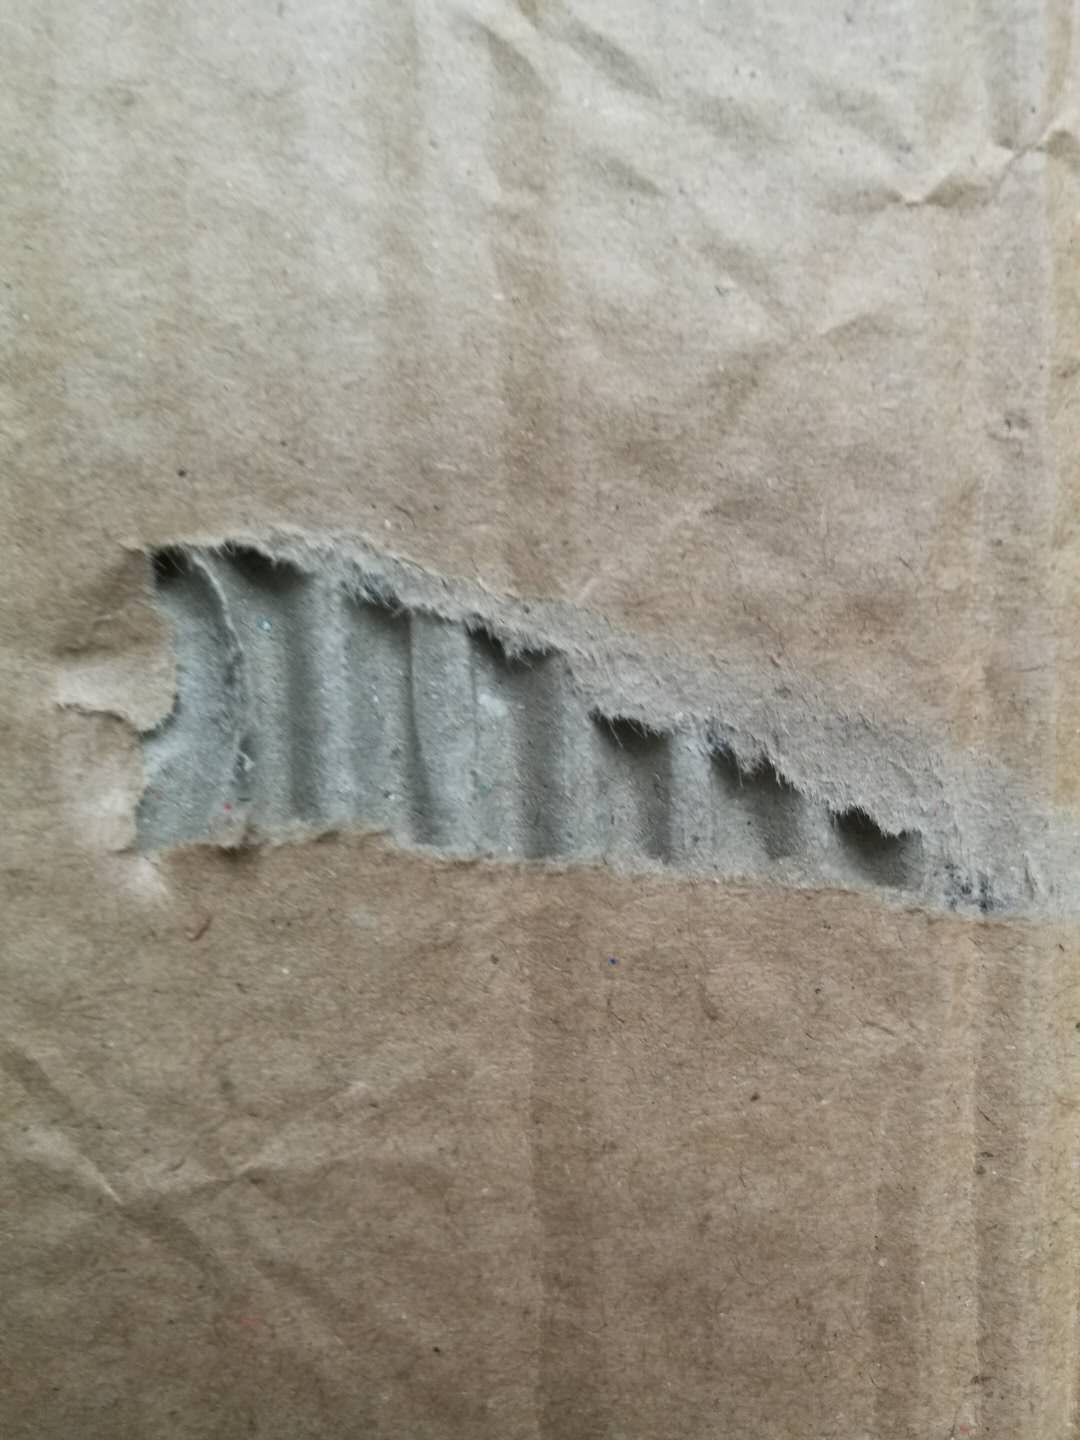defect: (352, 1, 1079, 1440), (20, 472, 1080, 1006), (3, 959, 365, 1345)
